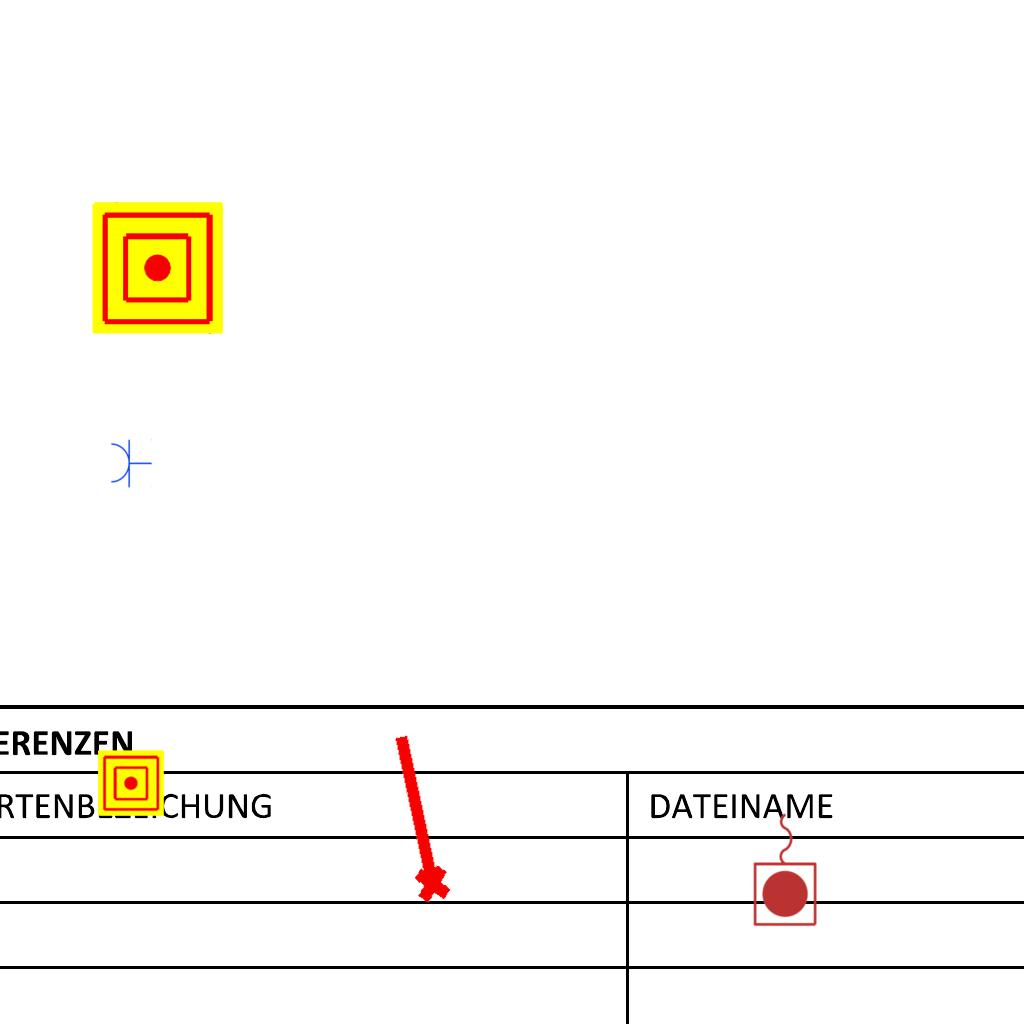ASR_Ansaugoeffnung: (375, 727, 457, 909)
NAM-Nichtautomatischer_Melder: (92, 202, 224, 334), (98, 750, 164, 816)
Schukosteckdose_einfach: (109, 438, 152, 488)
Zugtaster: (750, 808, 822, 930)
